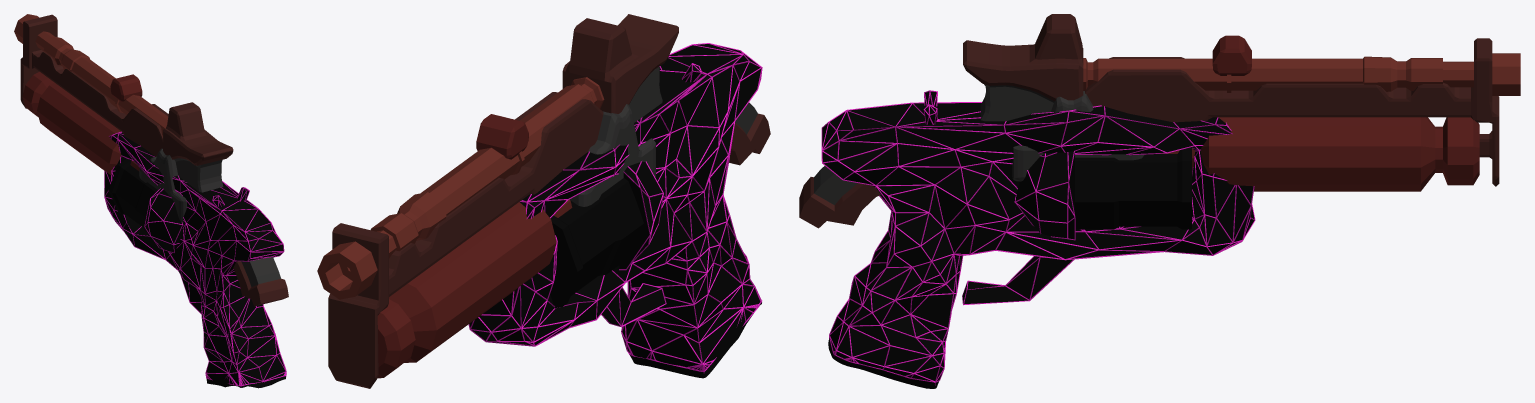
File: MaterialRifle_molten.glb
3 renders of one model, left to right at view 1: azimuth 30°, elevation 25°; view 2: azimuth 150°, elevation 25°; view 3: azimuth 270°, elevation 25°, orthographic. The views are drawn at different scales.
Parts seen in each view (by area): view 1: LongPistol, Pistol_Cube.001, Cylinder_Cube.007; view 2: LongPistol, Pistol_Cube.001, Cylinder_Cube.007; view 3: Pistol_Cube.001, LongPistol, Cylinder_Cube.007.
Part boxes in pixels (<box>): LongPistol: <box>14,14,288,306</box>; Pistol_Cube.001: <box>104,131,286,388</box>; Cylinder_Cube.007: <box>108,159,157,233</box>; LongPistol: <box>317,14,770,388</box>; Pistol_Cube.001: <box>468,43,762,378</box>; Cylinder_Cube.007: <box>550,178,643,308</box>; Pistol_Cube.001: <box>821,90,1255,388</box>; LongPistol: <box>799,14,1520,228</box>; Cylinder_Cube.007: <box>1075,147,1191,229</box>.
Size of the model in its own units: 0.0915 by 0.2956 by 0.5498.
